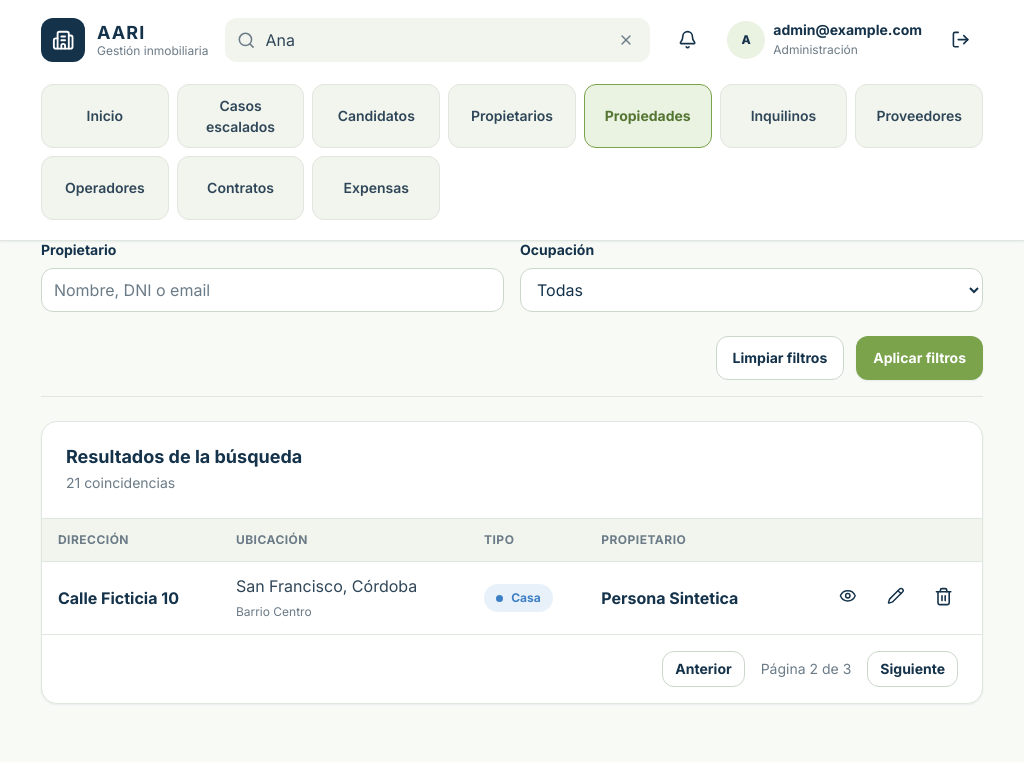
Test case: filtros de propiedades › conserva búsqueda, filtros y página con el detalle real desde nombre
(page scrolled)
Click the link "Calle Ficticia 10".
click(118, 598)  # box x1=58 y1=588 x2=179 y2=608
(page scrolled)
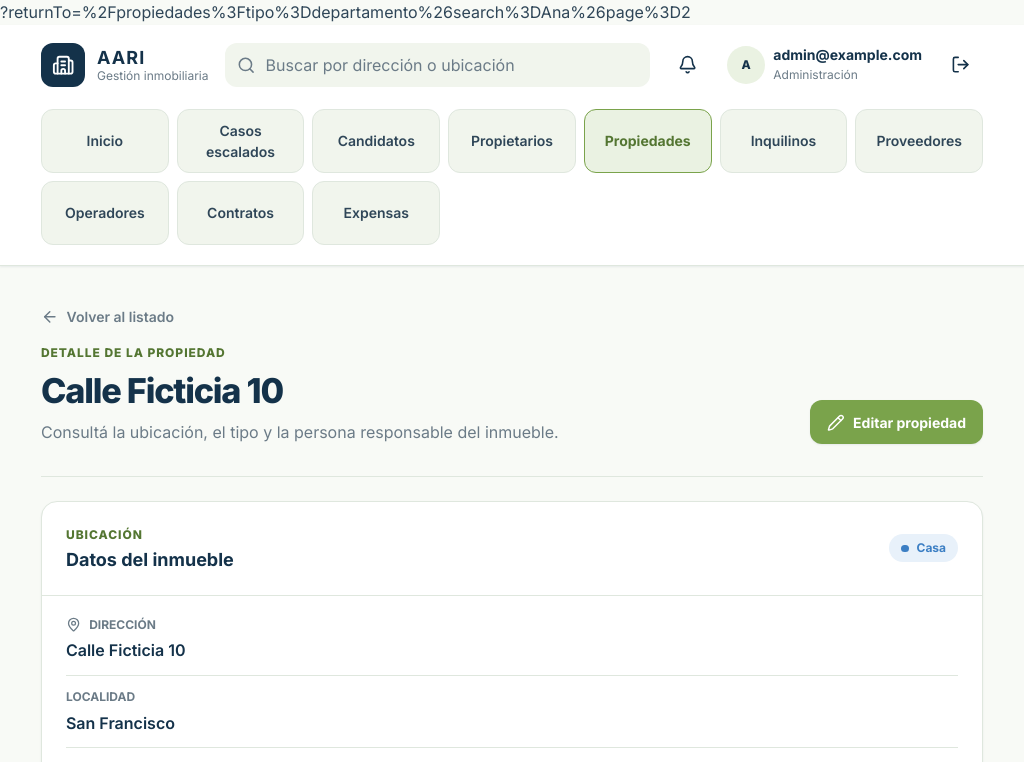
Expected: the heading "Calle Ficticia 10" is shown, x1=41 y1=370 x2=283 y2=412
Click the link "Volver al listado".
click(108, 317)  # box x1=41 y1=306 x2=174 y2=328
(page scrolled)
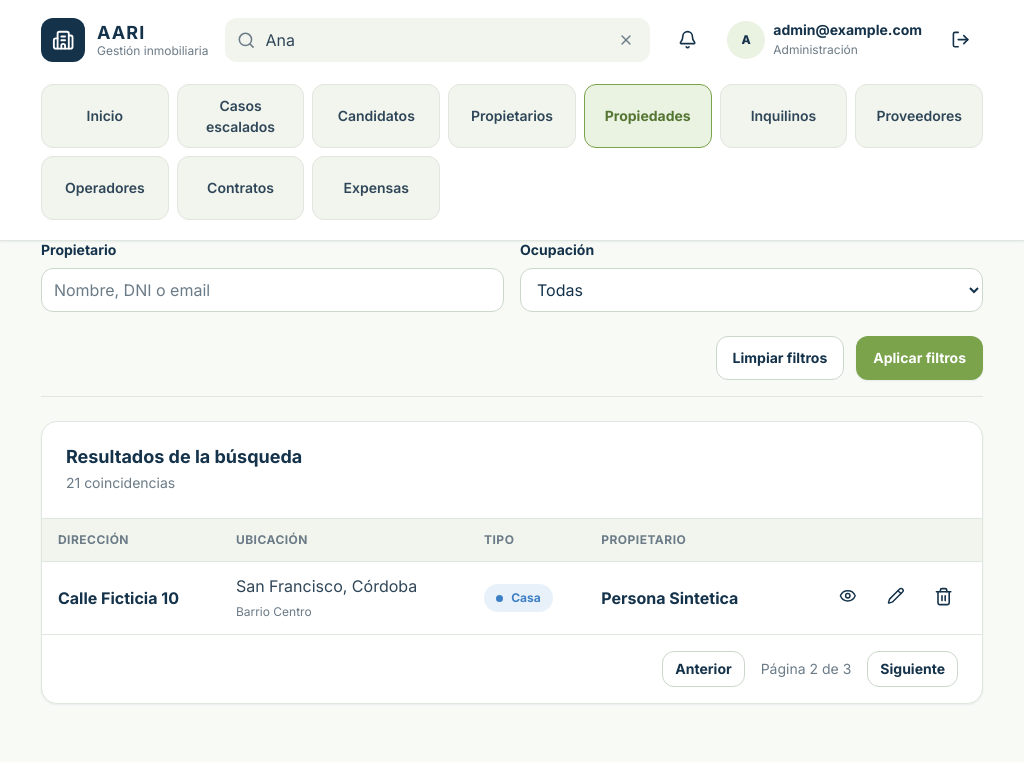
Expected: the dropdown labelled "Tipo de inmueble" shows "Departamento", x1=41 y1=89 x2=504 y2=133
Expected: the search field holds "Ana", x1=224 y1=18 x2=650 y2=62
Expected: the text "Página 2 de 3" is shown, x1=761 y1=658 x2=851 y2=680
